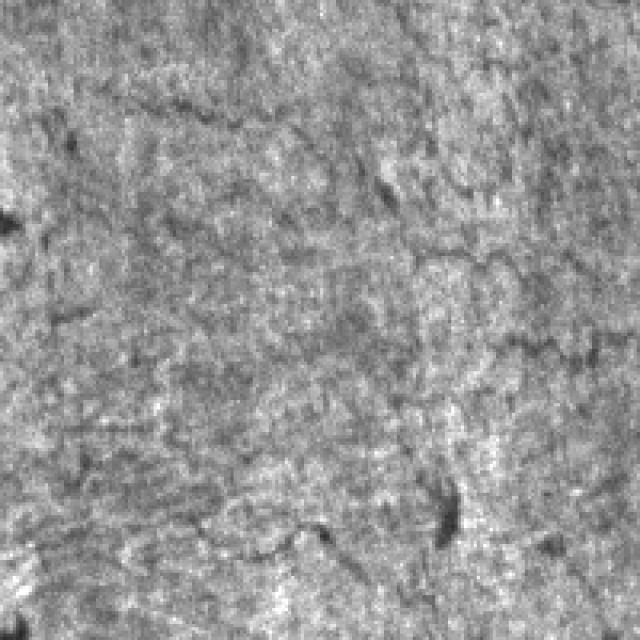crazing: (13, 272, 467, 605), (68, 0, 570, 294), (474, 307, 640, 627)
